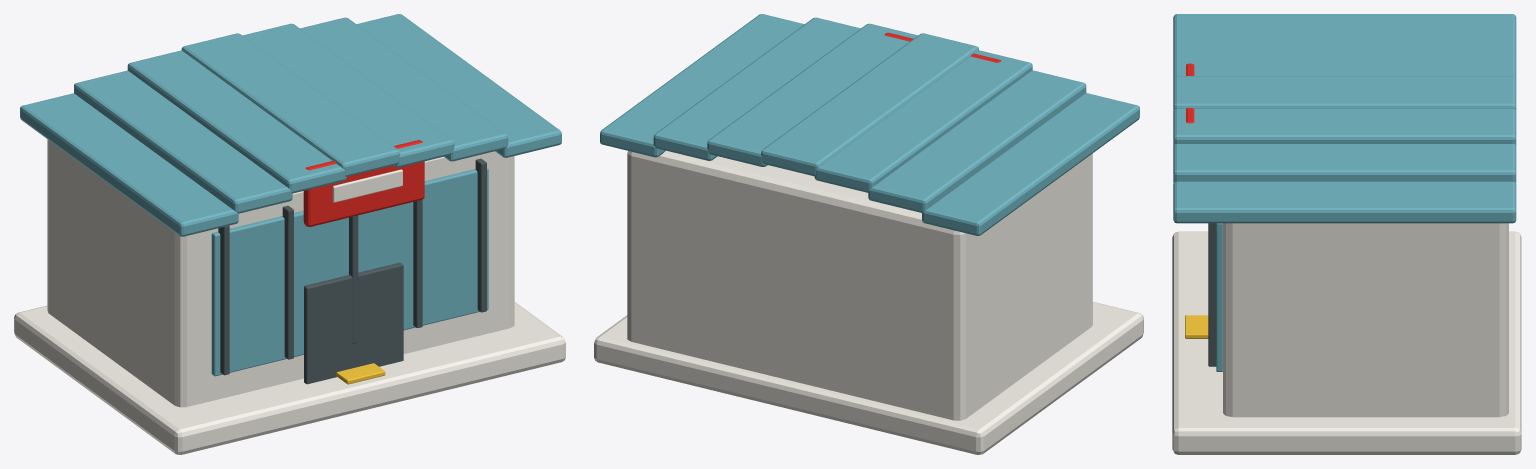
Rendered from mrt.glb.
3 views of the same model, side by side, from view 1: azimuth 30°, elevation 25°; view 2: azimuth 150°, elevation 25°; view 3: azimuth 270°, elevation 25° (orthographic). The views are drawn at different scales.
Visible parts, largest first — view 1: Concourse, Glass front, Station base, Canopy rib, Canopy rib.001, Canopy rib.003, Canopy rib.002, Entrance opening, Canopy rib.004, Canopy rib.005, Canopy rib.006, MRT roundel (+7 smaller); view 2: Concourse, Station base, Canopy rib, Canopy rib.001, Canopy rib.003, Canopy rib.002, Canopy rib.004, Canopy rib.005, Canopy rib.006; view 3: Concourse, Station base, Canopy rib.006, Canopy rib.005, Canopy rib.004, Canopy rib.003, Canopy rib.002, Canopy rib.001, Canopy rib, Mullion.004, Glass front, Tactile paving.
Part boxes in pixels (box(x1,y1,x2,y2)): Concourse: box(47, 139, 514, 407); Glass front: box(211, 167, 488, 376); Station base: box(14, 302, 565, 454); Canopy rib: box(20, 93, 238, 236); Canopy rib.001: box(74, 70, 292, 213); Canopy rib.003: box(181, 33, 400, 176); Canopy rib.002: box(127, 50, 346, 193); Entrance opening: box(304, 262, 403, 384); Canopy rib.004: box(242, 23, 454, 167); Canopy rib.005: box(300, 17, 508, 161); Canopy rib.006: box(356, 14, 561, 157); MRT roundel: box(303, 140, 424, 226); Concourse: box(627, 150, 1092, 420); Station base: box(594, 302, 1143, 454); Canopy rib: box(922, 93, 1139, 235); Canopy rib.001: box(868, 70, 1086, 212); Canopy rib.003: box(761, 33, 978, 176); Canopy rib.002: box(814, 50, 1032, 192); Canopy rib.004: box(707, 23, 917, 166); Canopy rib.005: box(653, 17, 860, 160); Canopy rib.006: box(600, 14, 804, 157); Concourse: box(1223, 223, 1508, 417); Station base: box(1172, 231, 1521, 454); Canopy rib.006: box(1173, 181, 1516, 223); Canopy rib.005: box(1173, 144, 1516, 182); Canopy rib.004: box(1173, 108, 1516, 145); Canopy rib.003: box(1173, 76, 1516, 110); Canopy rib.002: box(1173, 52, 1516, 78); Canopy rib.001: box(1173, 31, 1516, 54); Canopy rib: box(1173, 14, 1516, 34); Mullion.004: box(1208, 223, 1216, 366); Glass front: box(1216, 223, 1222, 371); Tactile paving: box(1185, 315, 1208, 338).
Size of the model in its own units: 4.5 by 2.78 by 3.3.
